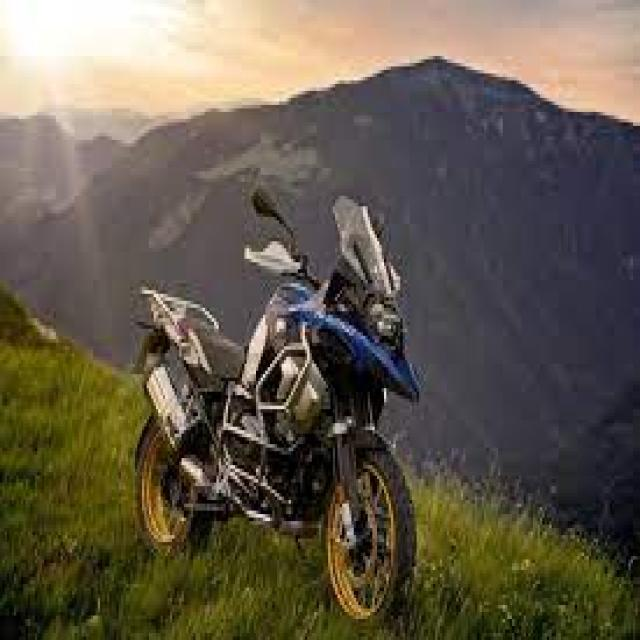bike: (126, 185, 428, 633)
